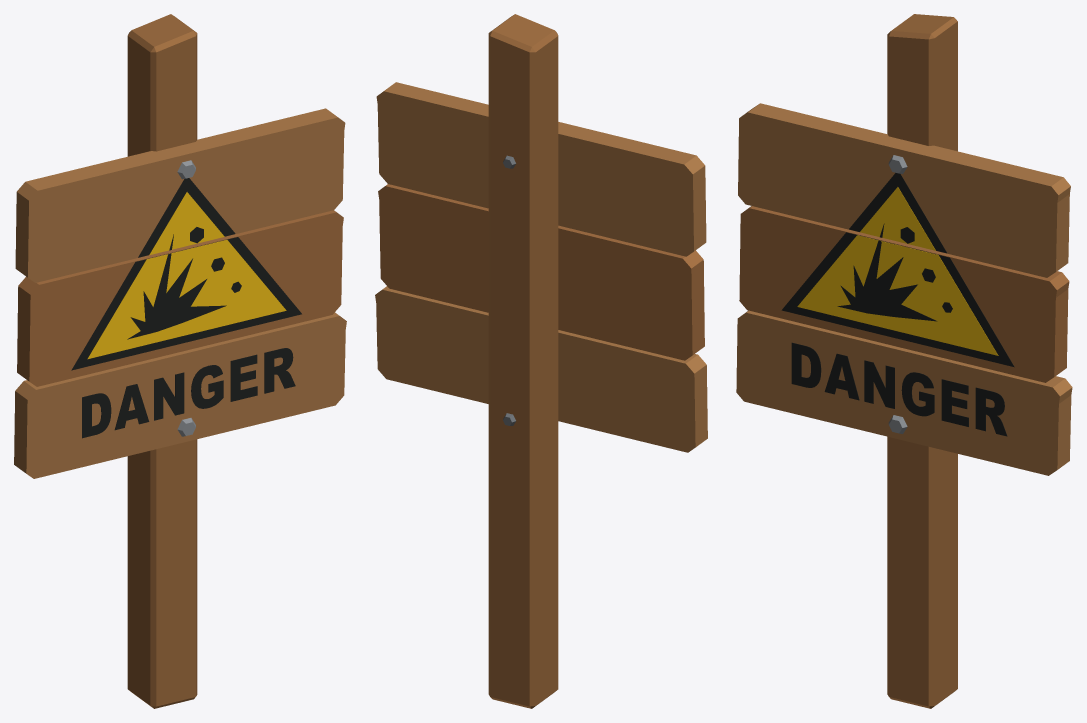
The model's file is Mine Warning Sign.glb.
3 views of the same model, side by side, from view 1: azimuth 30°, elevation 25°; view 2: azimuth 150°, elevation 25°; view 3: azimuth 330°, elevation 25° (orthographic).
Parts seen in each view (by area): view 1: Mine Warning Sign.Static; view 2: Mine Warning Sign.Static; view 3: Mine Warning Sign.Static.
Boxes of the visible parts, bbox=[...] form: Mine Warning Sign.Static: bbox=[14, 14, 346, 708]; Mine Warning Sign.Static: bbox=[375, 14, 707, 708]; Mine Warning Sign.Static: bbox=[736, 14, 1072, 708].
Size of the model in its own units: 0.852 by 1.7 by 0.197.
